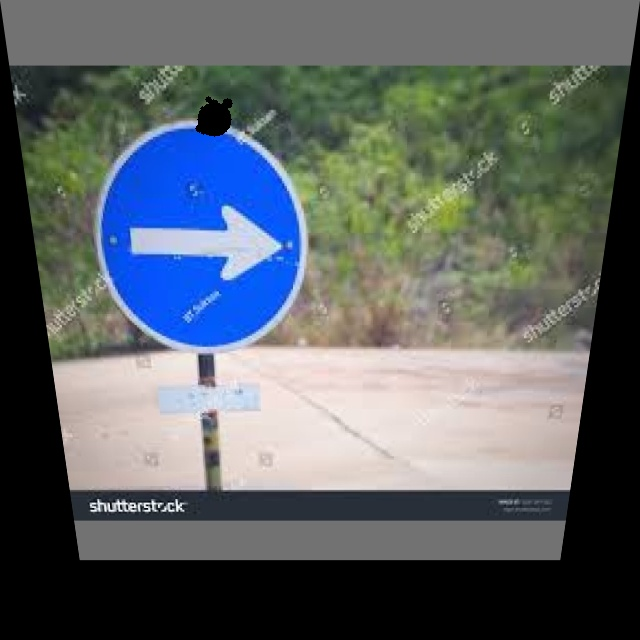Compulsory_Turn_Right: (91, 118, 308, 353)
